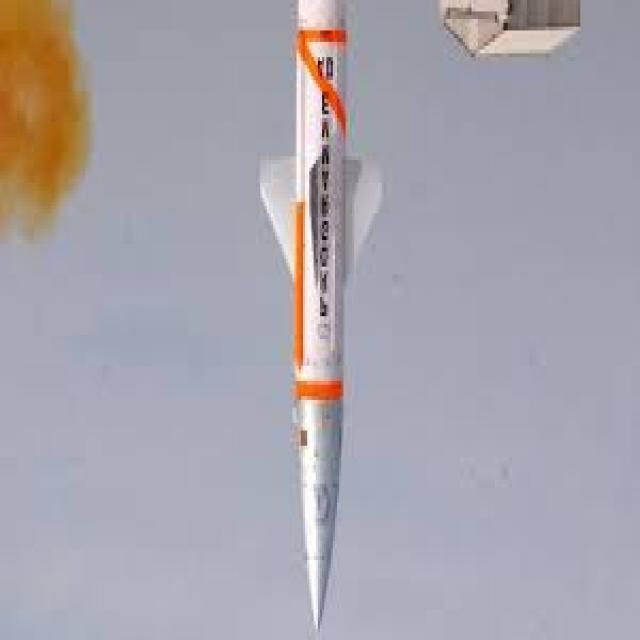missile: (258, 0, 372, 632)
